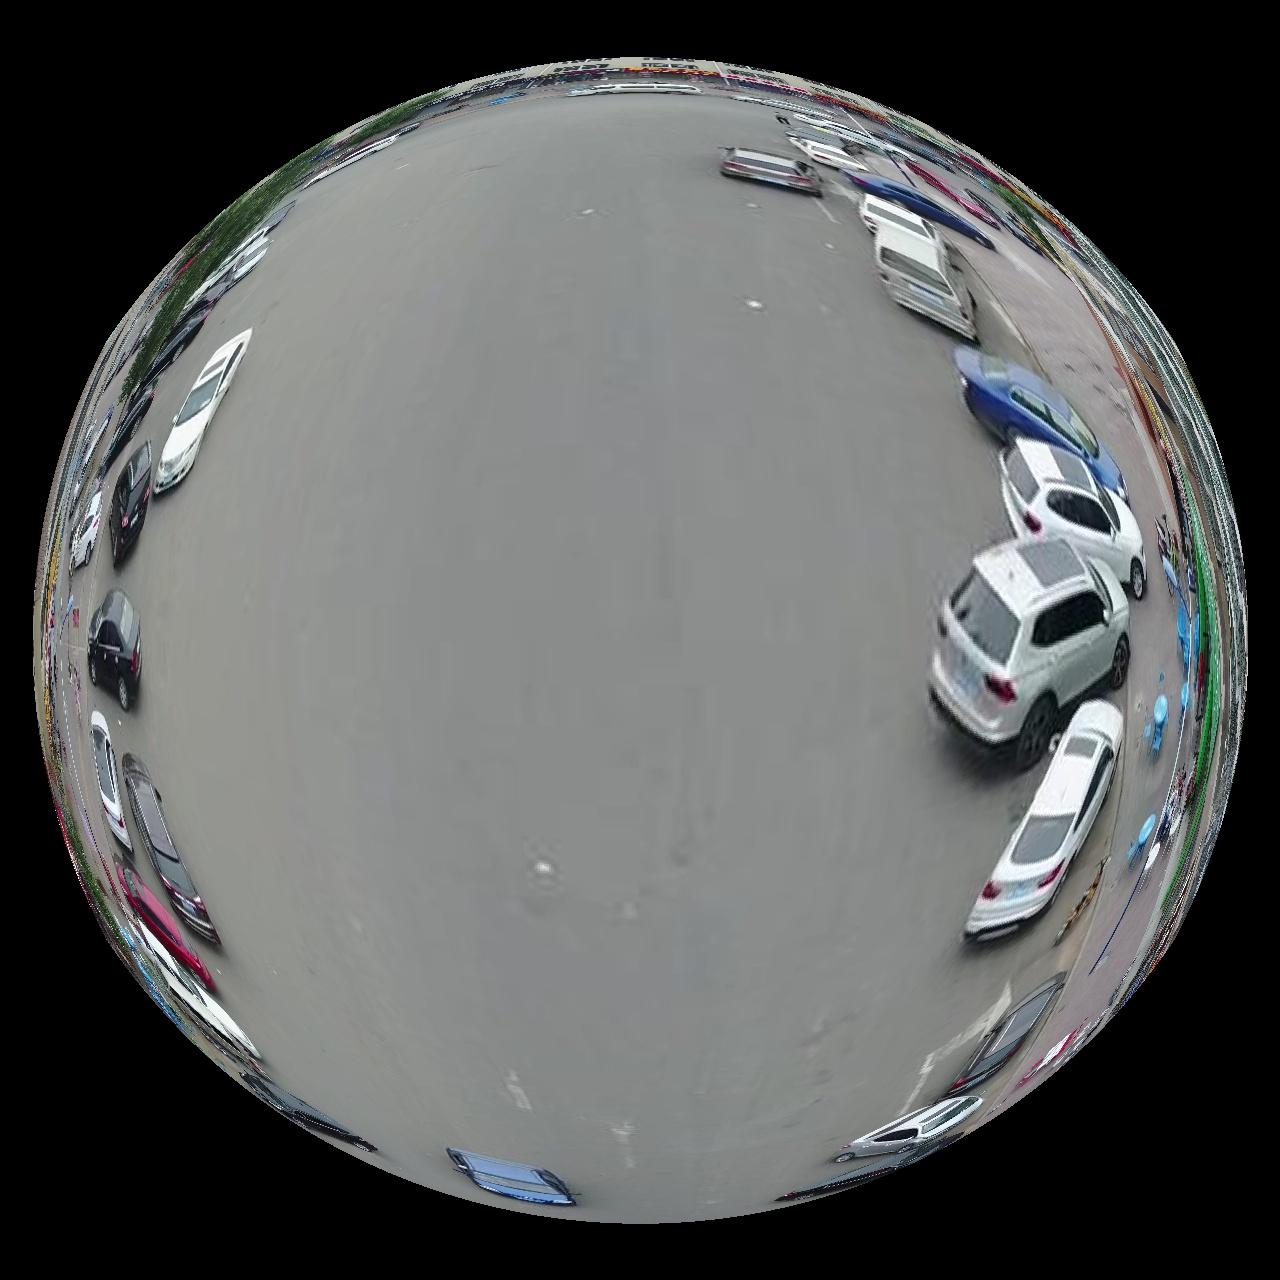cars: (932, 535, 1133, 769), (966, 701, 1126, 941), (955, 345, 1130, 501), (1002, 438, 1150, 599), (121, 755, 218, 946), (152, 328, 251, 493), (949, 974, 1067, 1098), (115, 862, 213, 990), (876, 220, 979, 340), (844, 170, 996, 248), (835, 1098, 983, 1164), (445, 1151, 576, 1208), (87, 588, 139, 710), (90, 712, 131, 855), (107, 441, 150, 565), (721, 147, 821, 195), (862, 193, 939, 244), (788, 132, 869, 170), (68, 481, 101, 571)
